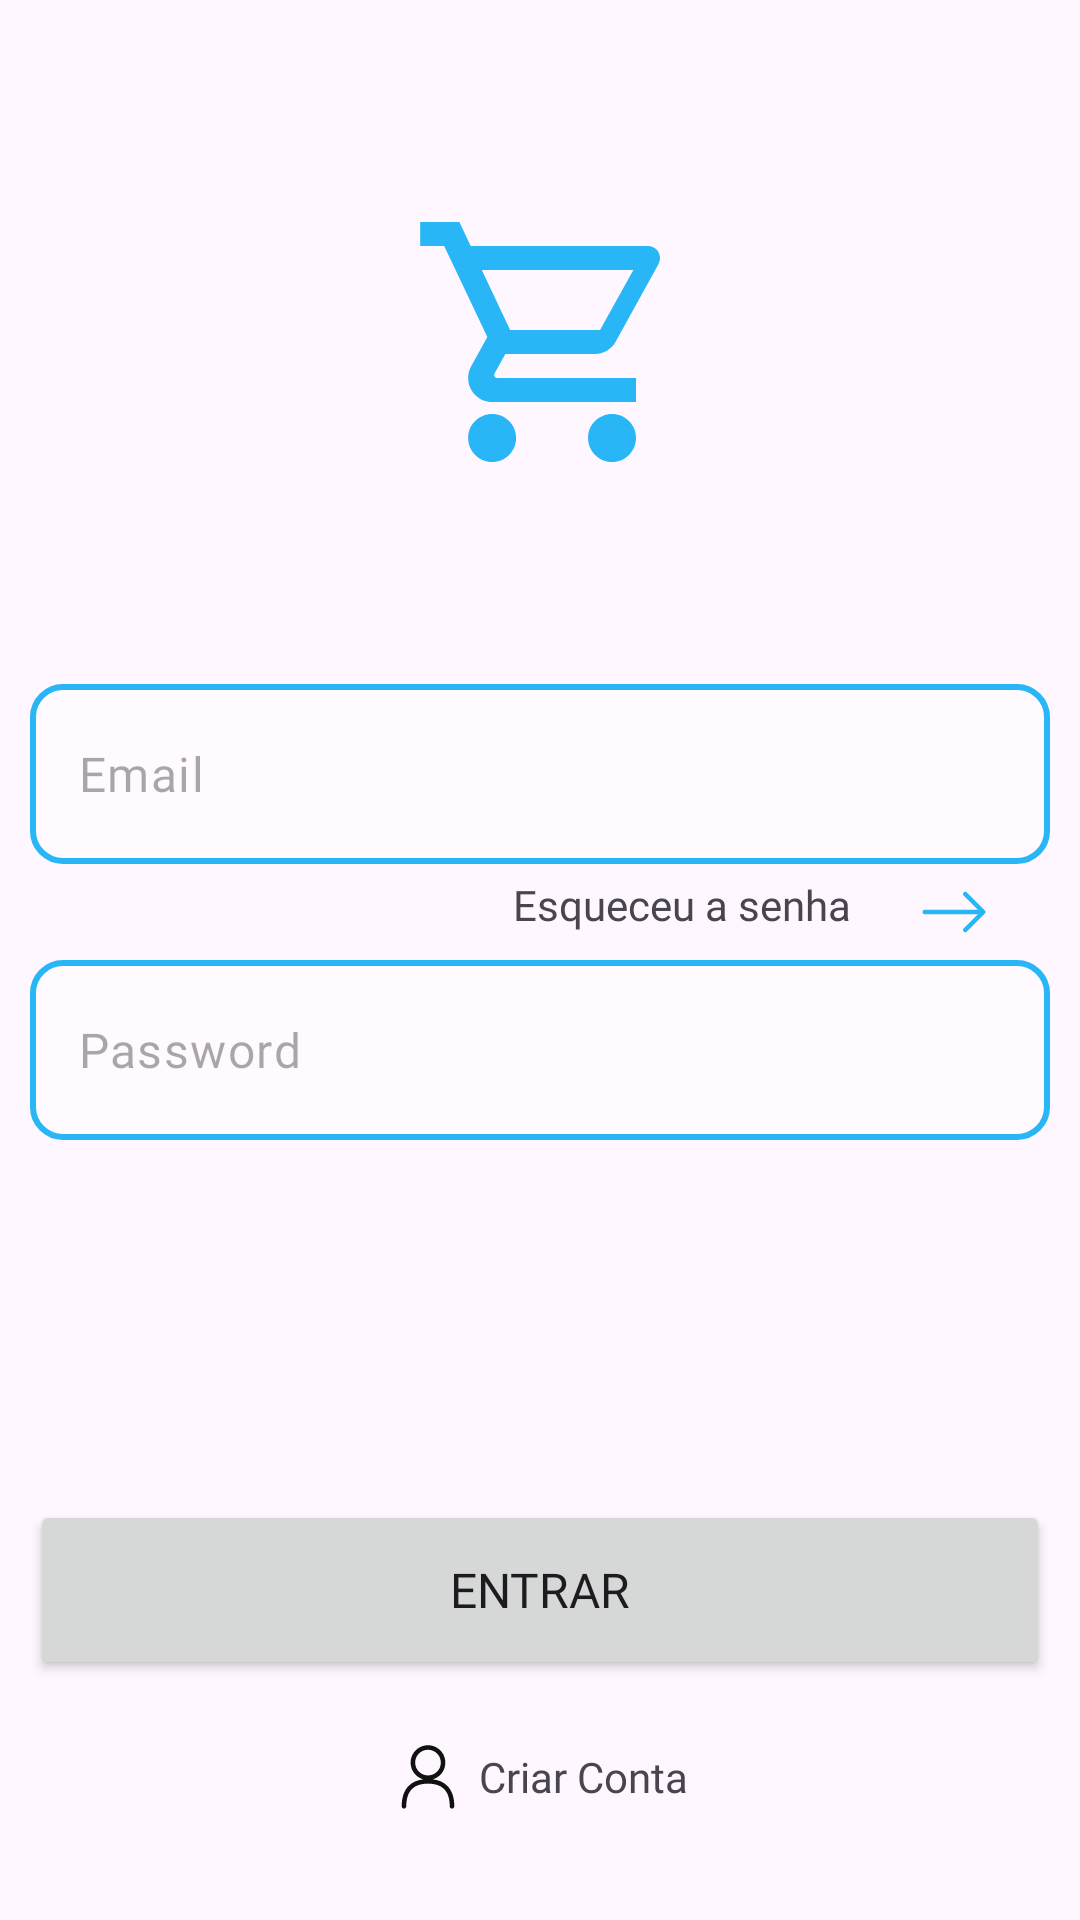

Icons on this 1080x1920 Android screen, each with the point to tap as (x=x, y=y):
bi arrow right: (x=954, y=912)
octicon person: (x=428, y=1777)
